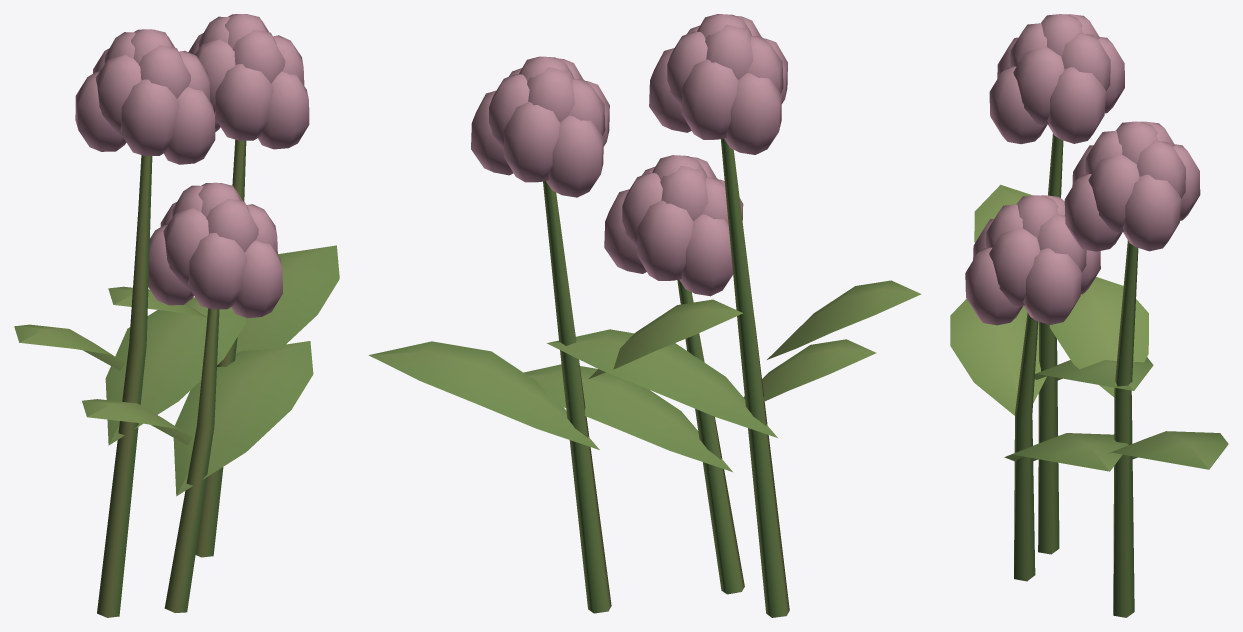
File: Clover_Pink.glb
3 renders of one model, left to right at view 1: azimuth 30°, elevation 25°; view 2: azimuth 150°, elevation 25°; view 3: azimuth 270°, elevation 25°, orthographic. The views are drawn at different scales.
Parts seen in each view (by area): view 1: Clover_Pink; view 2: Clover_Pink; view 3: Clover_Pink.
Part boxes in pixels (bbox=[...]): Clover_Pink: bbox=[14, 14, 339, 617]; Clover_Pink: bbox=[368, 14, 921, 617]; Clover_Pink: bbox=[950, 14, 1228, 617].
Bounding box in the file's own units: 0.3662 × 0.4702 × 0.2126.
